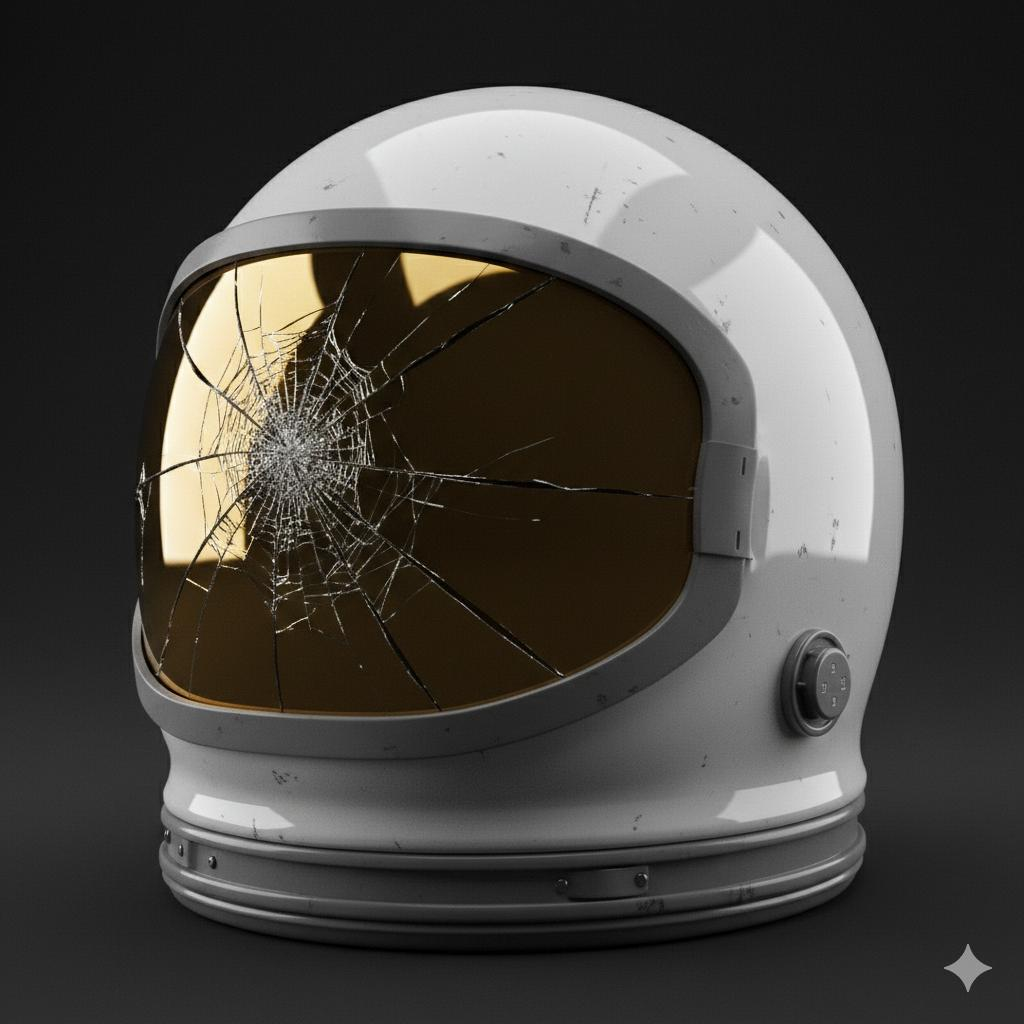crack: (103, 258, 650, 689)
